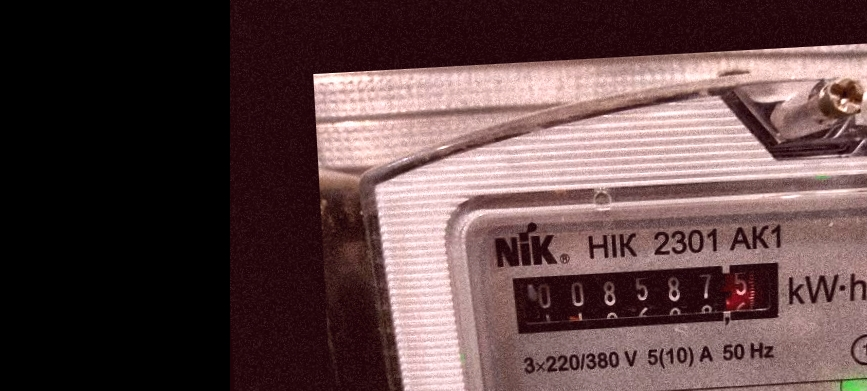0: (535, 279, 553, 309), (569, 278, 587, 307)
5: (732, 268, 751, 298), (632, 273, 651, 302)
7: (696, 269, 715, 300)
8: (664, 272, 683, 303), (601, 277, 618, 306)
screen: (493, 245, 800, 345)
